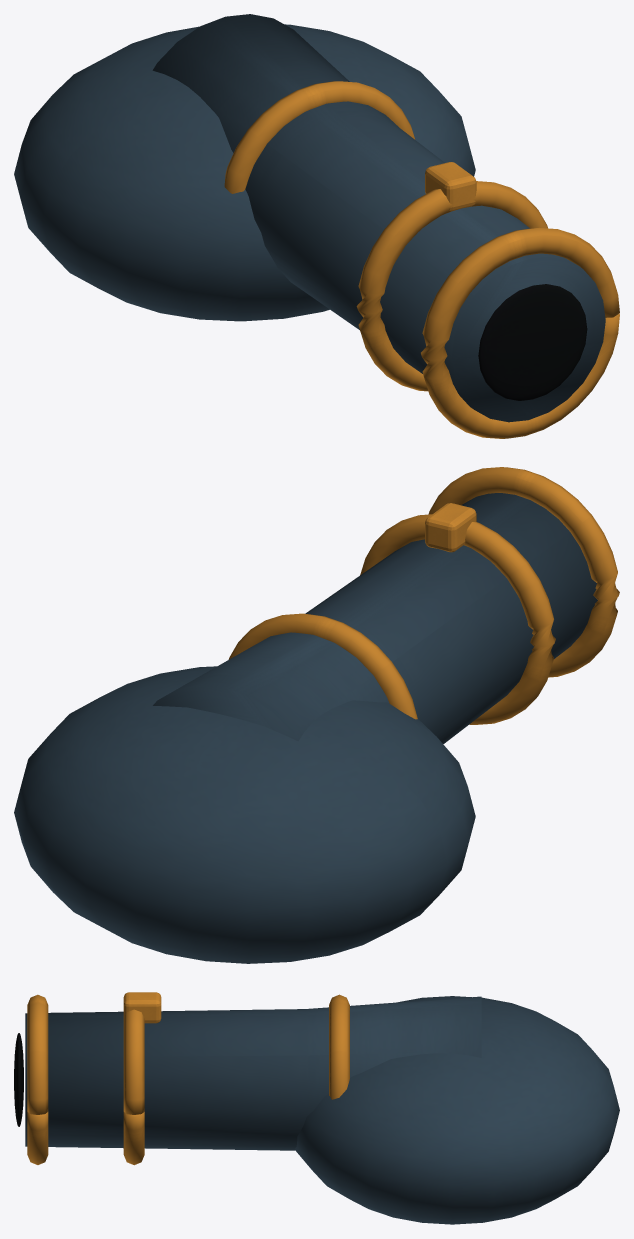
File: SM_guard_cannon.fbx
3 views of the same model, one above another, from view 1: azimuth 30°, elevation 25°; view 2: azimuth 150°, elevation 25°; view 3: azimuth 270°, elevation 25° (orthographic). The views are drawn at different scales.
Visible parts, largest first — view 1: SM_guard_cannon; view 2: SM_guard_cannon; view 3: SM_guard_cannon.
Boxes of the visible parts, x1,y1,x2,y2 form: SM_guard_cannon: (14,14,619,438); SM_guard_cannon: (14,467,619,963); SM_guard_cannon: (14,992,619,1224).
Bounding box in the file's own units: 0.84 × 1.45 × 0.53.
